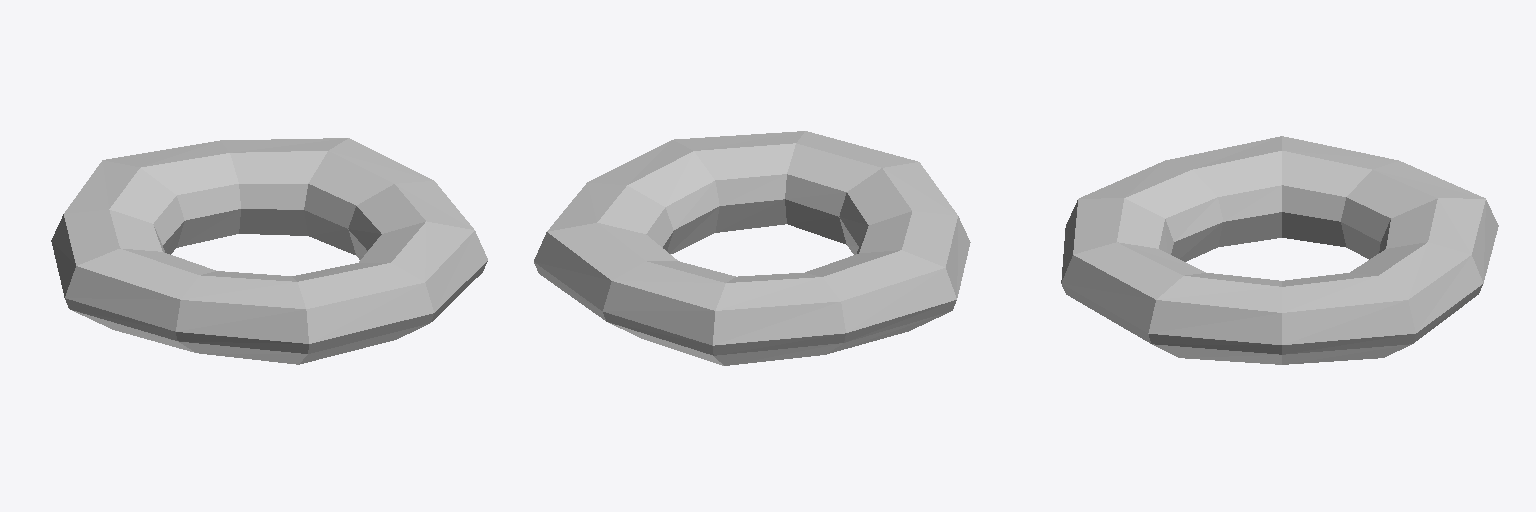
File: Samoa.obj
3 views of the same model, side by side, from view 1: azimuth 30°, elevation 25°; view 2: azimuth 150°, elevation 25°; view 3: azimuth 270°, elevation 25° (orthographic).
Visible parts, largest first — view 1: Samoas_Torus; view 2: Samoas_Torus; view 3: Samoas_Torus.
Boxes of the visible parts, x1=… form: Samoas_Torus: x1=51, y1=138, x2=487, y2=364; Samoas_Torus: x1=534, y1=131, x2=970, y2=365; Samoas_Torus: x1=1061, y1=136, x2=1498, y2=364.
Size of the model in its own units: 2.41 by 0.4838 by 2.4.